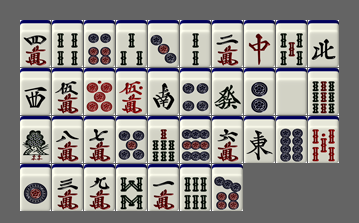0m: (116, 68, 147, 115)
0p: (84, 68, 115, 115)
0s: (308, 116, 339, 163)
1m: (148, 164, 179, 211)
1p: (20, 164, 51, 211)
1s: (20, 116, 51, 163)
1z: (244, 116, 275, 163)
2m: (212, 20, 243, 67)
2p: (244, 68, 275, 115)
2s: (180, 20, 211, 67)
2z: (148, 68, 179, 115)
3m: (52, 164, 83, 211)
3p: (148, 20, 179, 67)
3s: (116, 20, 147, 67)
3z: (20, 68, 51, 115)
4m: (20, 20, 51, 67)
4p: (180, 68, 211, 115)
4s: (52, 20, 83, 67)
4z: (308, 20, 339, 67)
5m: (52, 68, 83, 115)
5p: (116, 116, 147, 163)
5s: (276, 20, 307, 67)
5z: (276, 68, 307, 115)
6m: (212, 116, 243, 163)
6p: (84, 20, 115, 67)
6s: (180, 164, 211, 211)
6z: (212, 68, 243, 115)
7m: (84, 116, 115, 163)
7p: (212, 164, 243, 211)
7s: (148, 116, 179, 163)
7z: (244, 20, 275, 67)
8m: (52, 116, 83, 163)
8p: (276, 116, 307, 163)
8s: (116, 164, 147, 211)
9m: (84, 164, 115, 211)
9p: (180, 116, 211, 163)
9s: (308, 68, 339, 115)
